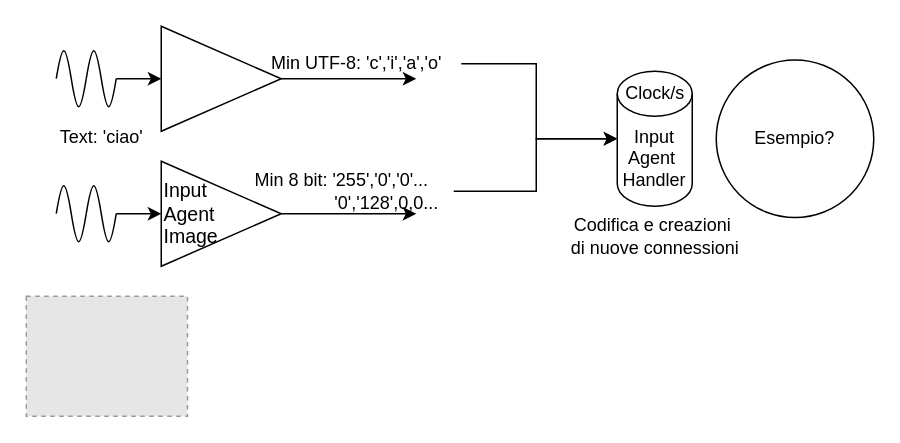
The diagram is 900 pixels wide and 443 high, and some of its shapes have lost their labels. Grey dashed boxes stand in for pictures. The centre of each missing label's shape, as x and y in pixels:
"Image:" goes at (x=100, y=213).
"Input Agen t Text" goes at (x=220, y=78).
